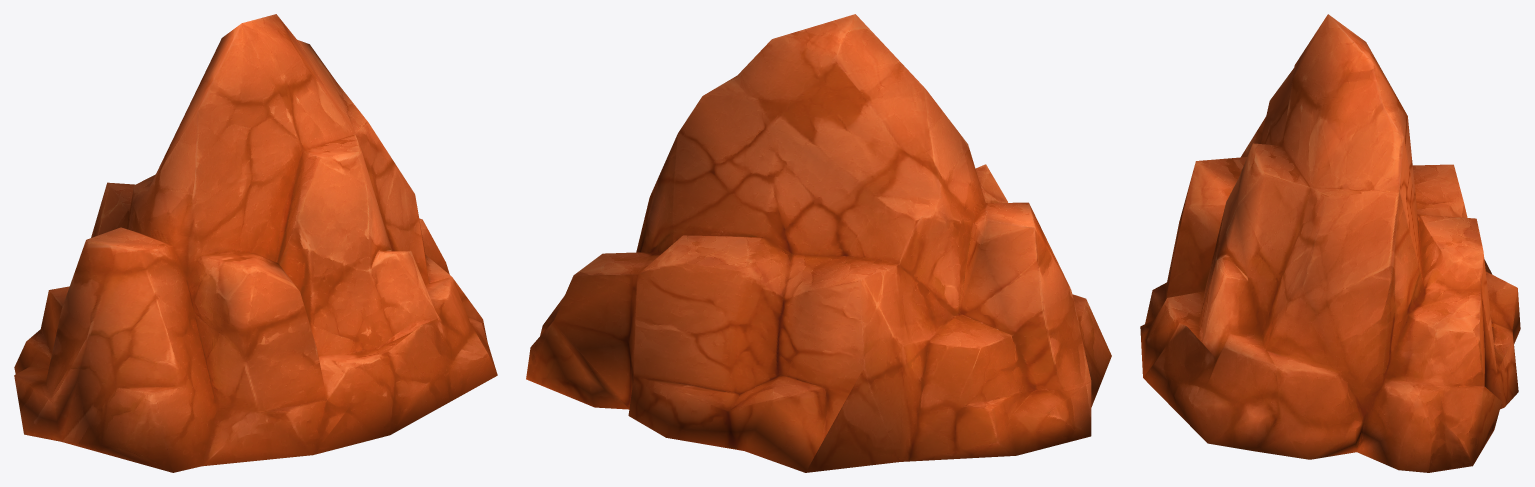
Rendered from Meshy_AI_Orange_Peak_0512182103_texture.fbx.
3 views of the same model, side by side, from view 1: azimuth 30°, elevation 25°; view 2: azimuth 150°, elevation 25°; view 3: azimuth 270°, elevation 25° (orthographic). The views are drawn at different scales.
Parts seen in each view (by area): view 1: Mesh_0; view 2: Mesh_0; view 3: Mesh_0.
Boxes of the visible parts, x1,y1,x2,y2 form: Mesh_0: (14, 14, 497, 472); Mesh_0: (526, 14, 1111, 472); Mesh_0: (1140, 14, 1520, 472).
Size of the model in its own units: 191 by 135 by 137.
1 material, 1 textured.
